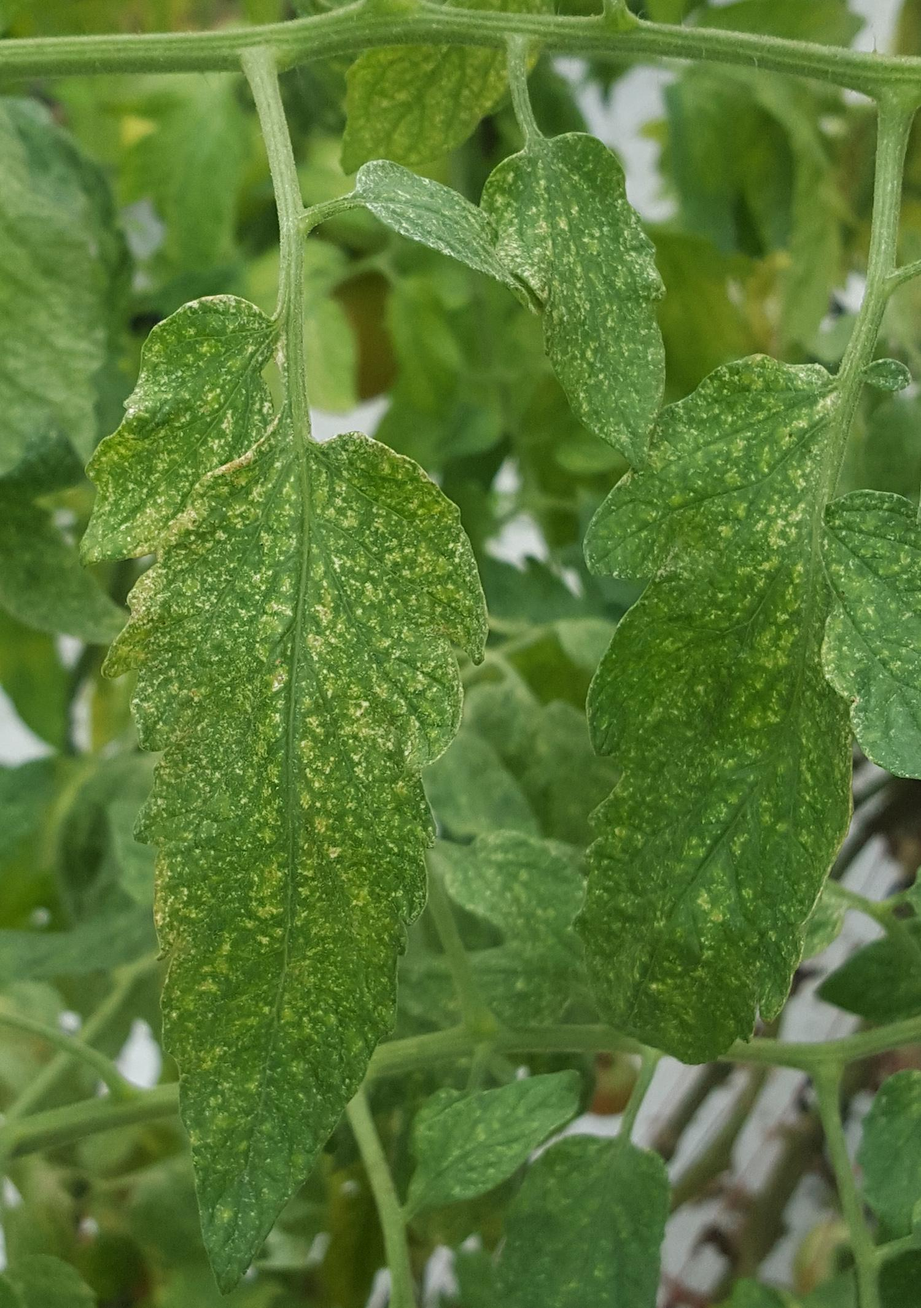Spider Mites: (111, 430, 503, 1305), (568, 341, 860, 1069), (479, 123, 669, 464), (77, 286, 282, 565)
